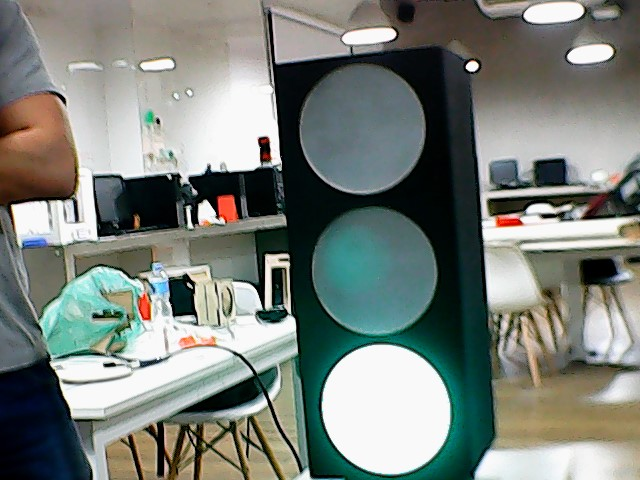verde: (263, 44, 505, 479)
